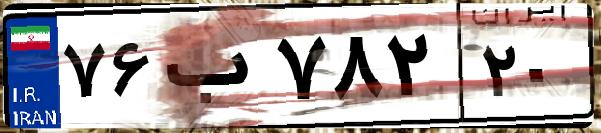0: (525, 38, 570, 115)
2: (385, 28, 445, 110), (475, 38, 525, 113)
6: (110, 28, 158, 98)
7: (270, 28, 330, 110), (57, 26, 110, 100)
8: (330, 28, 385, 110)
ب: (158, 20, 270, 120)
